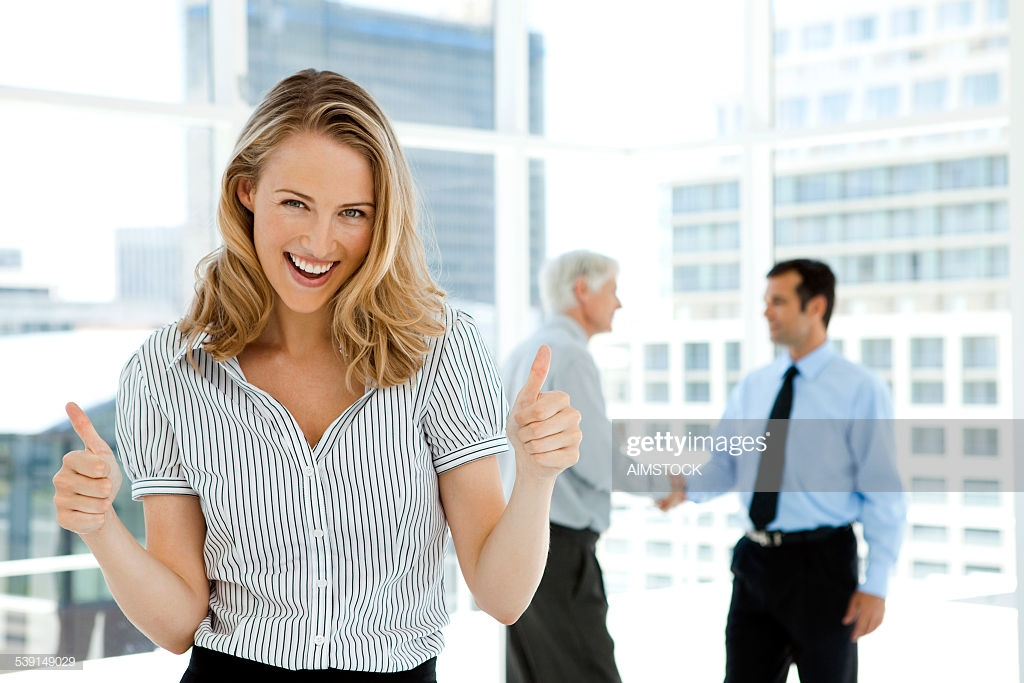thumbsup: (513, 345, 583, 468), (52, 402, 116, 534)
